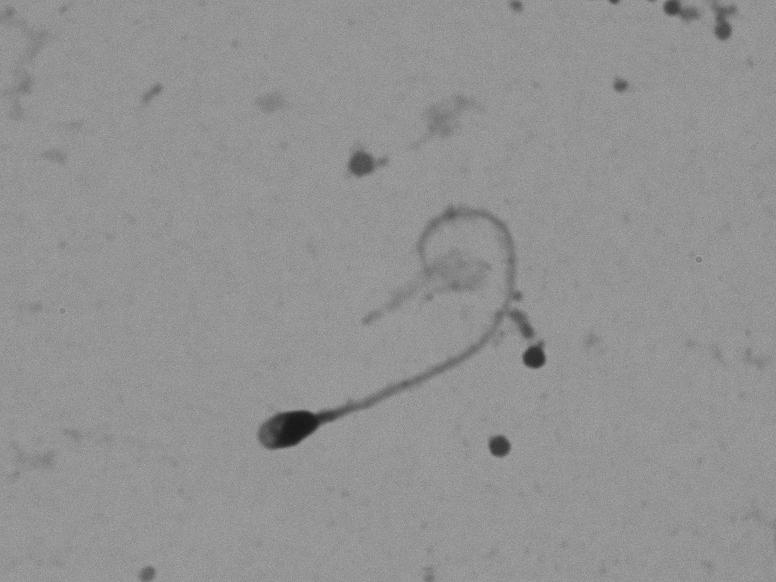Abnormal: (236, 178, 519, 469)
